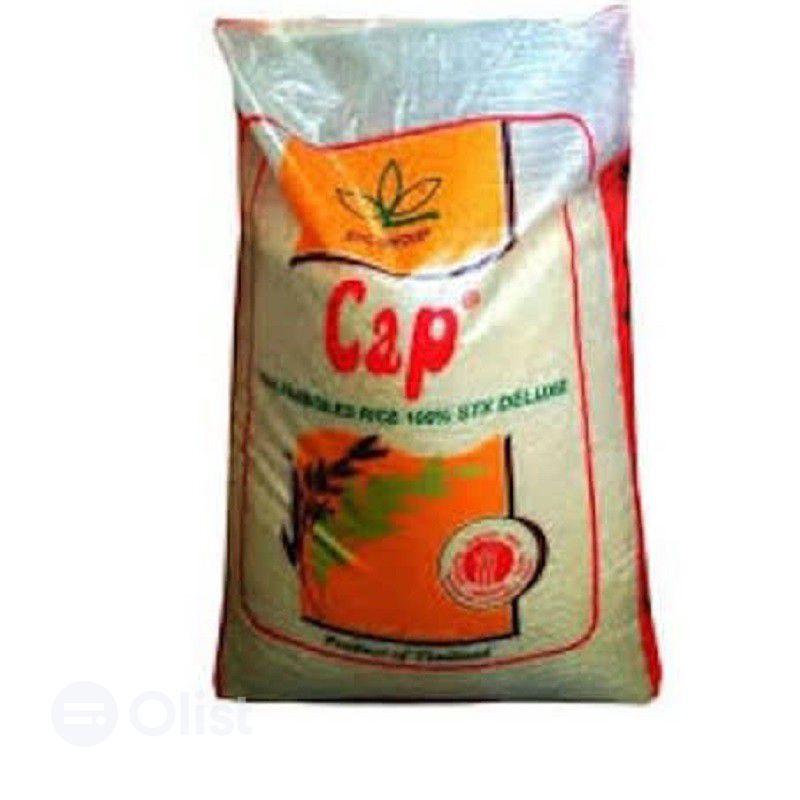bag_of_rice: (8, 4, 769, 762)
